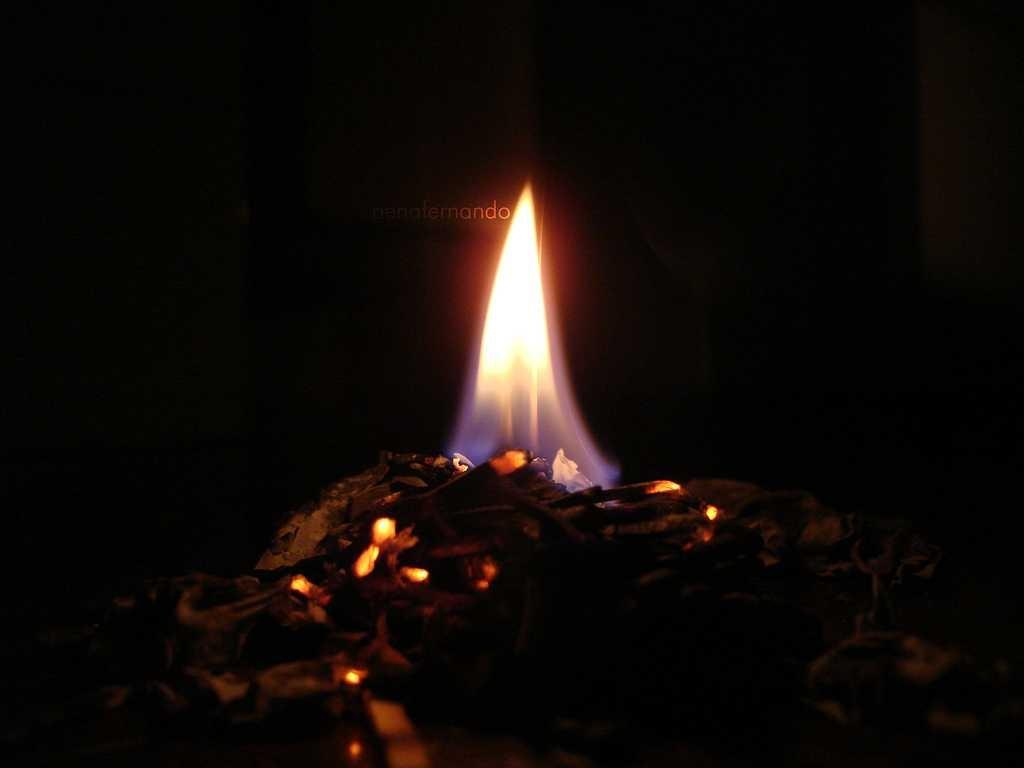fire: (457, 161, 616, 500)
